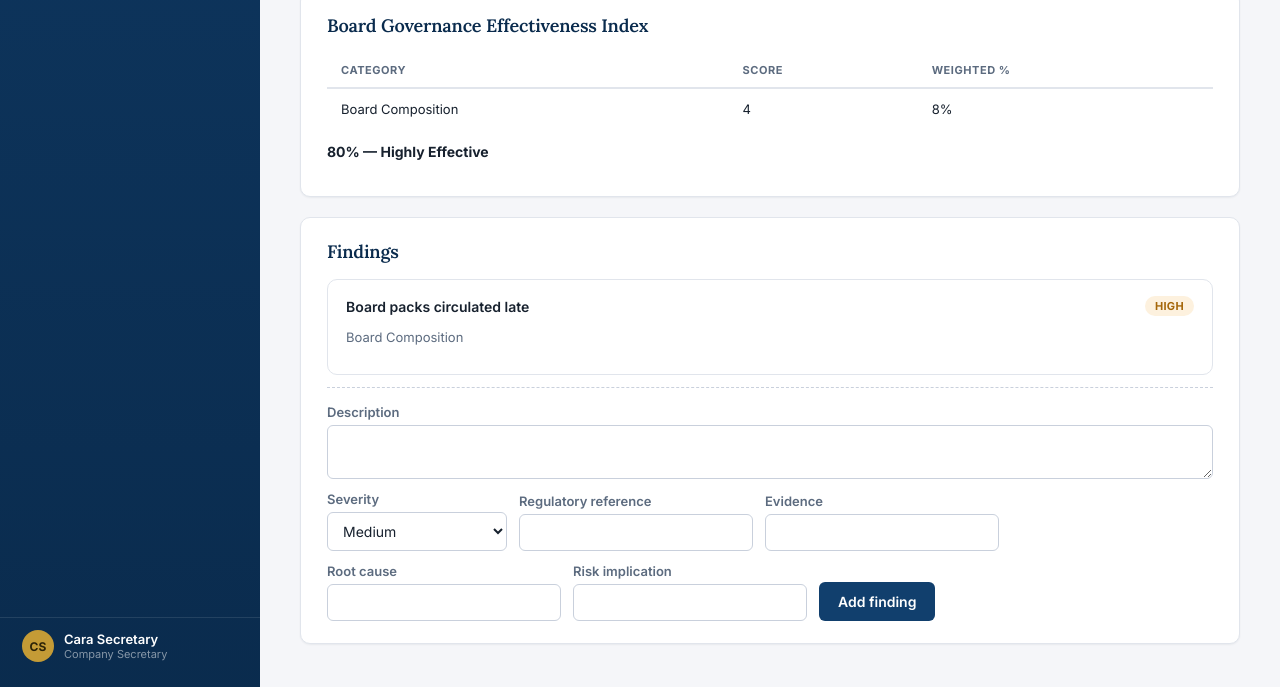
Test: EvaluationResultsPage › lists existing findings and lets a Company Secretary record a new one
The width and height of the screenshot is (1280, 687).
(page scrolled)
Expected: the link "Board packs circulated late" is shown, x1=346 y1=298 x2=529 y2=314
Type "Risk appetite not reviewed this year" into the text box labelled "Description". click: {"x": 770, "y": 452}
box: x1=327 y1=425 x2=1213 y2=479
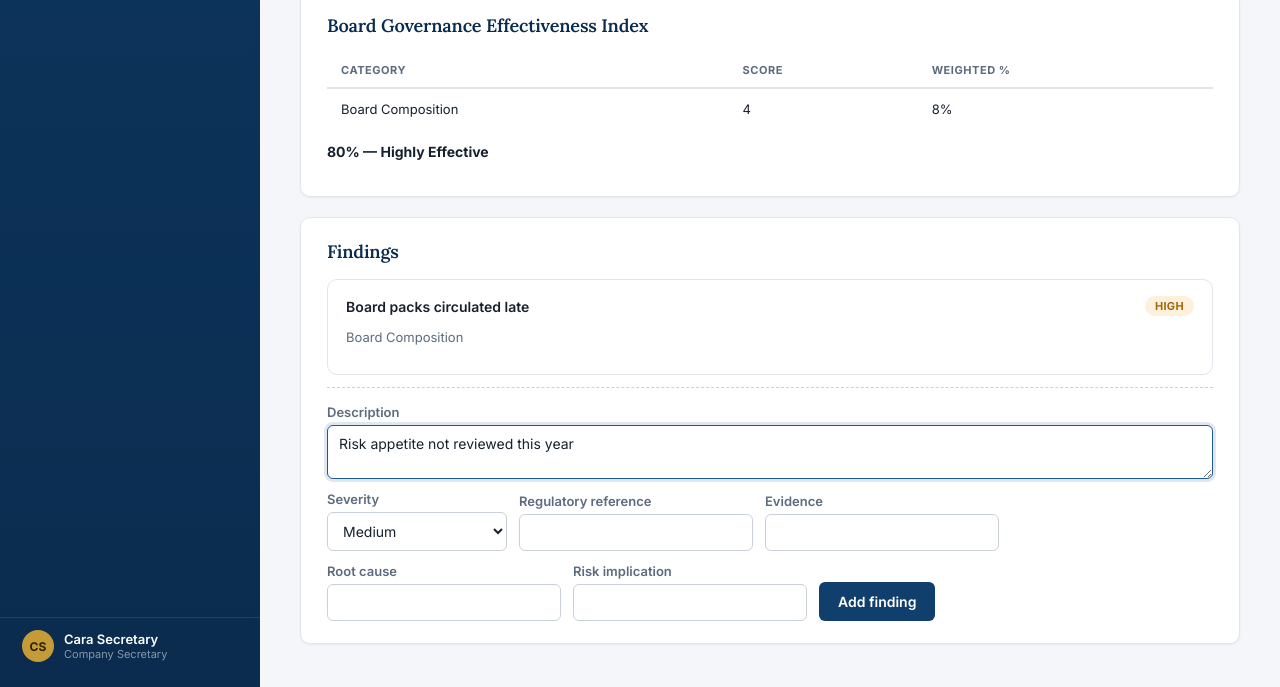
Select "Medium" in the dropdown labelled "Severity". click: {"x": 417, "y": 532}
box: x1=327 y1=512 x2=507 y2=551
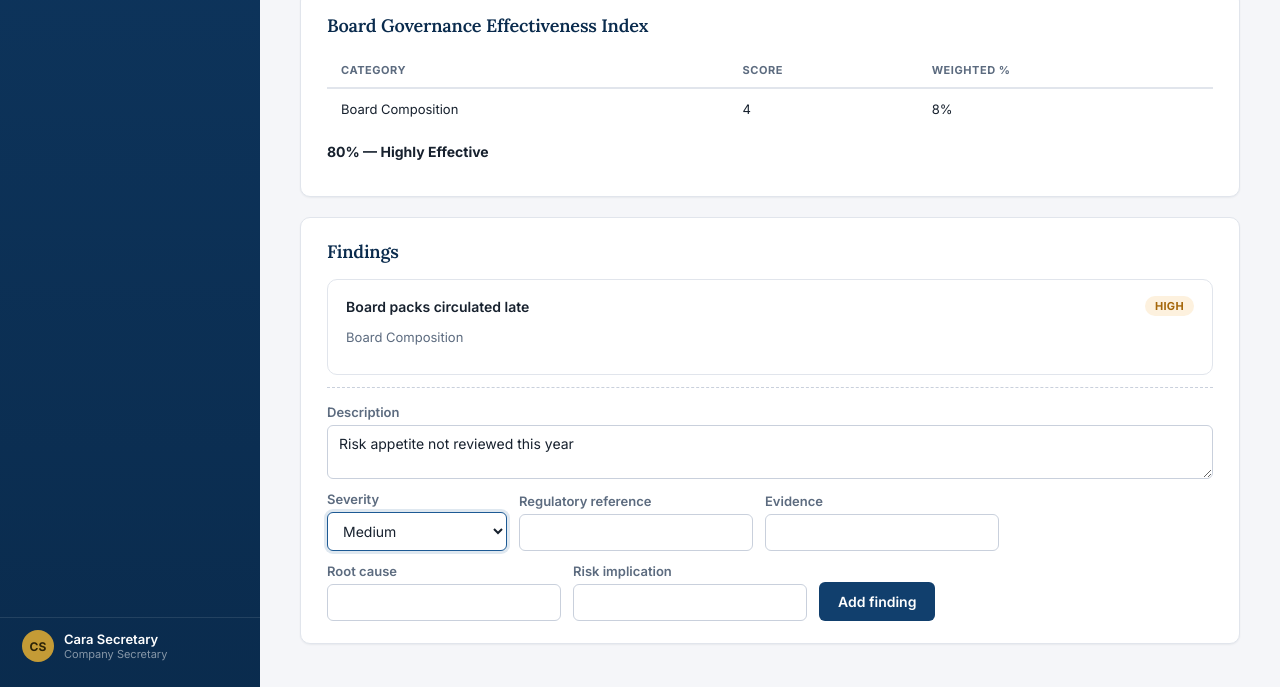
Click the button "Add finding". click: {"x": 877, "y": 602}
box: x1=819 y1=582 x2=936 y2=621
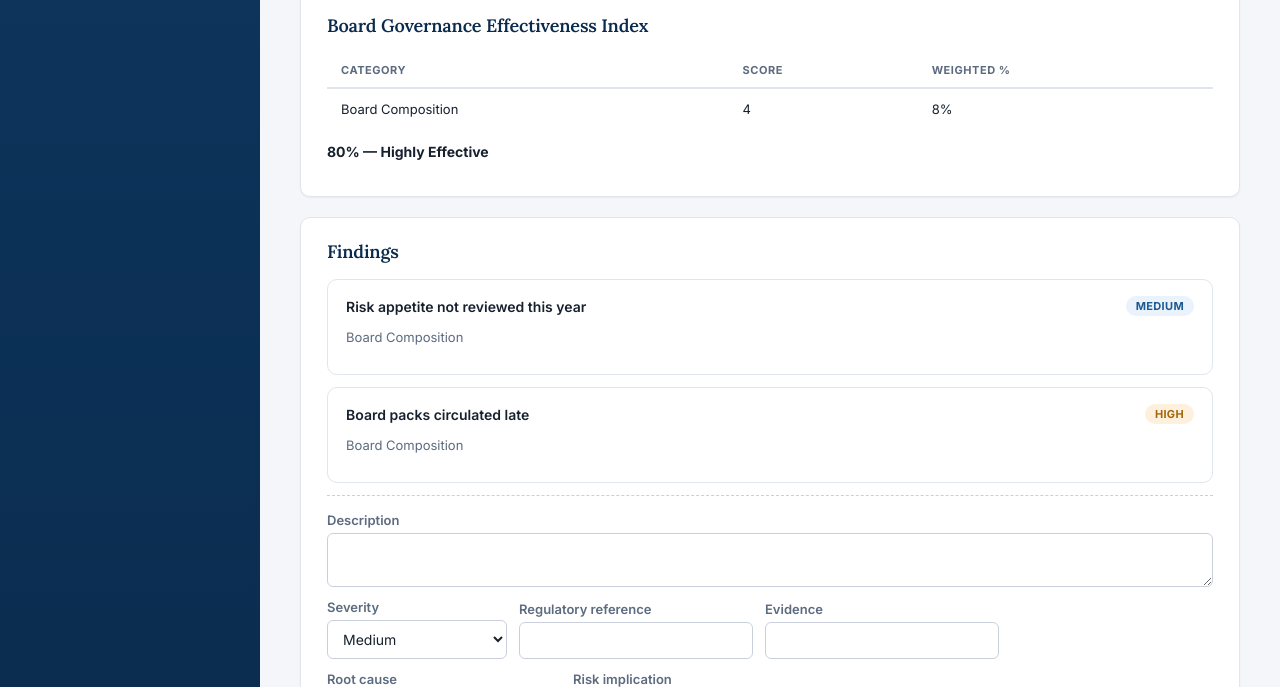
Now the link "Risk appetite not reviewed this year" is shown, box x1=346 y1=298 x2=586 y2=314
